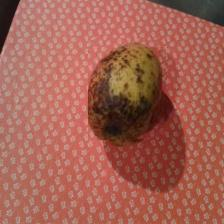Mango Semirotten: (89, 39, 168, 141)
